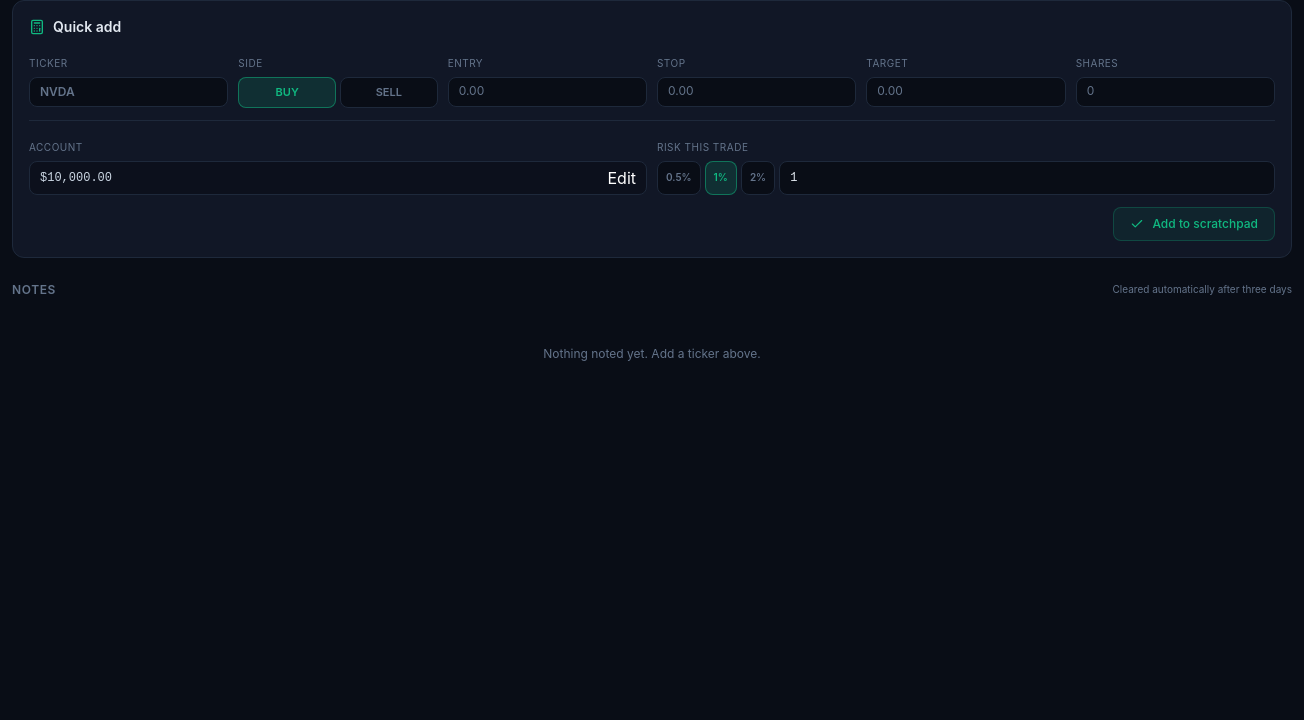
Scenario: the live preview › stays hidden until there is an entry and a stop to size
expect the number field named "Risk percent" holds "1": met, box [779,160,1275,194]
expect the text "Take Profit Targets" is not shown: met
Type "100" into the number field labelled "Entry" at point(547, 92), box [448,77,647,107]
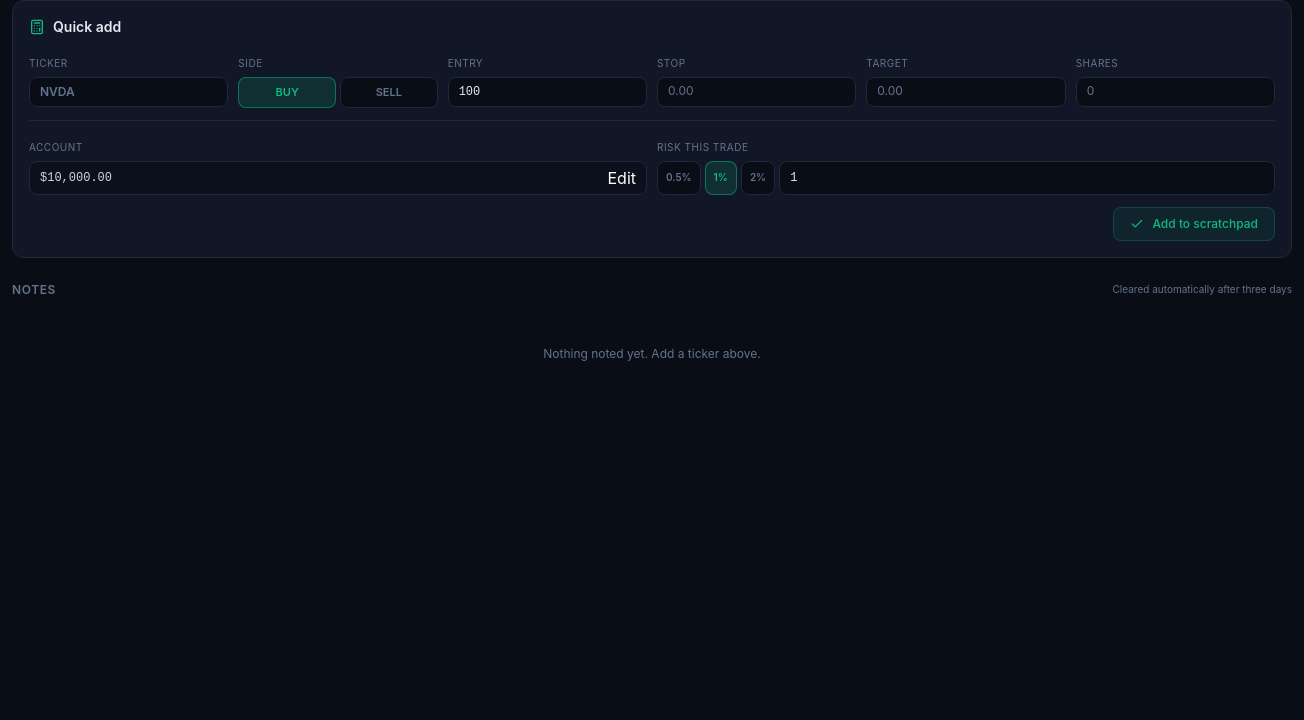
expect the text "Take Profit Targets" is not shown: met
Type "95" into the number field labelled "Stop" at point(757, 92), box [657,77,856,107]
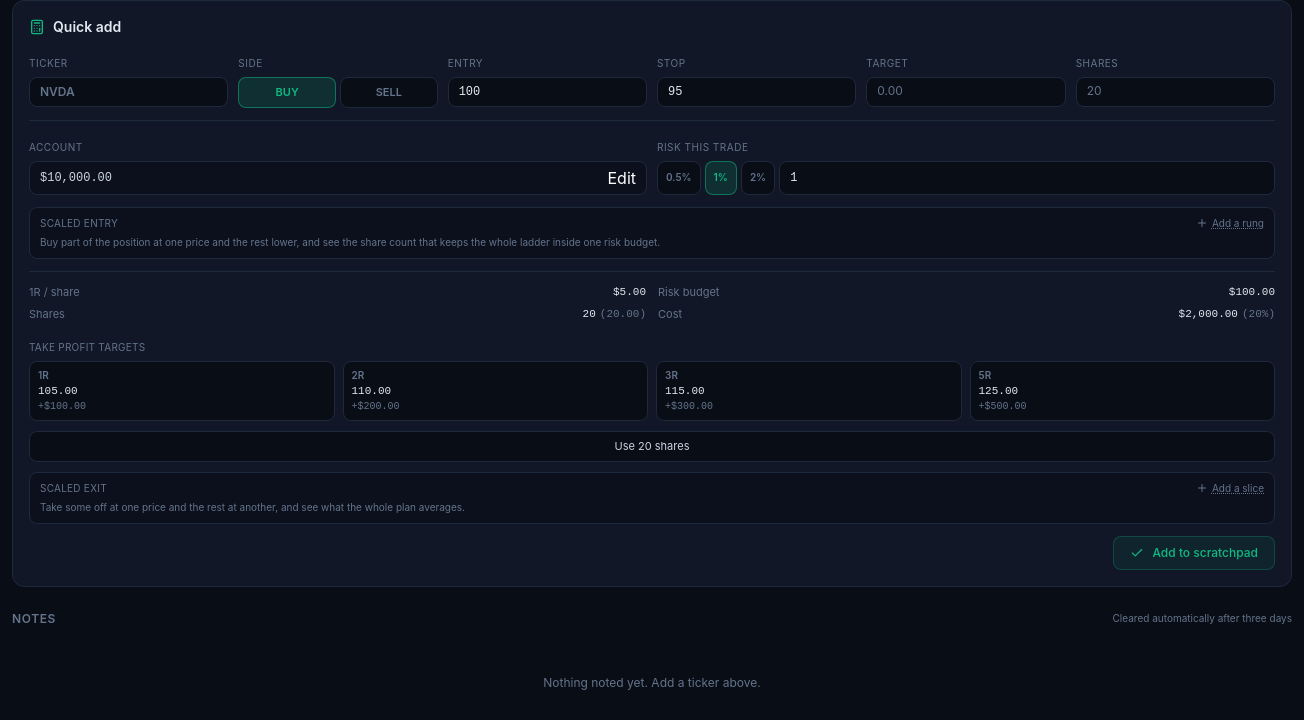
expect the text "Take Profit Targets" is shown: met, box [29,340,145,352]
